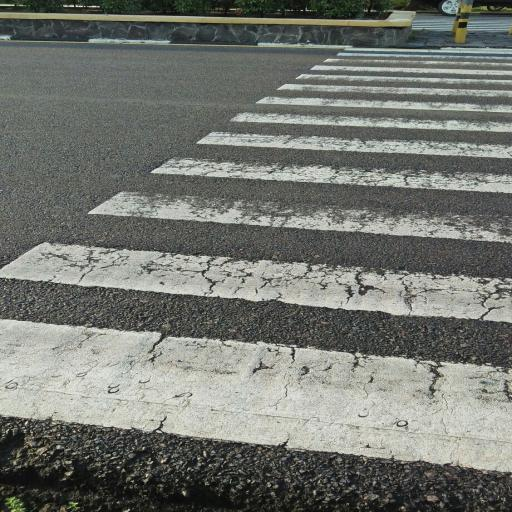closet: (89, 50, 511, 252), (469, 14, 511, 32)
ramp: (0, 43, 511, 511), (468, 13, 511, 32)
